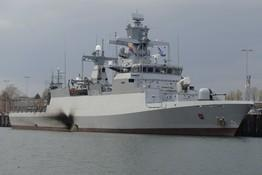warship: (8, 8, 254, 134)
